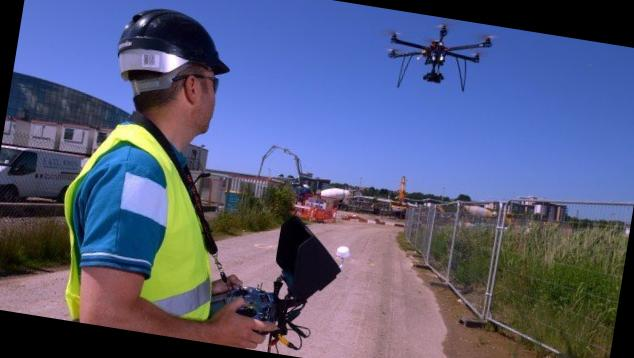drone: (372, 18, 510, 88)
